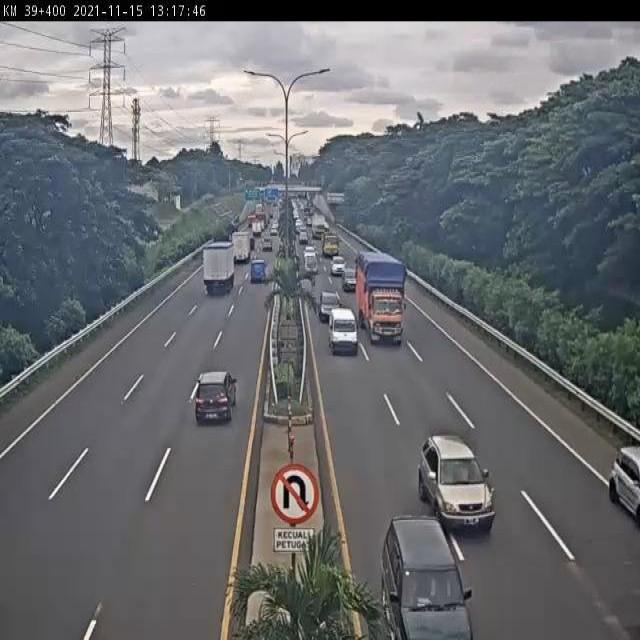car: (418, 432, 498, 535), (193, 369, 237, 424), (327, 308, 360, 357), (316, 288, 344, 327), (248, 256, 269, 287), (343, 266, 359, 294)
truck-l-: (356, 251, 410, 348)
truck-m-: (200, 240, 236, 300)
